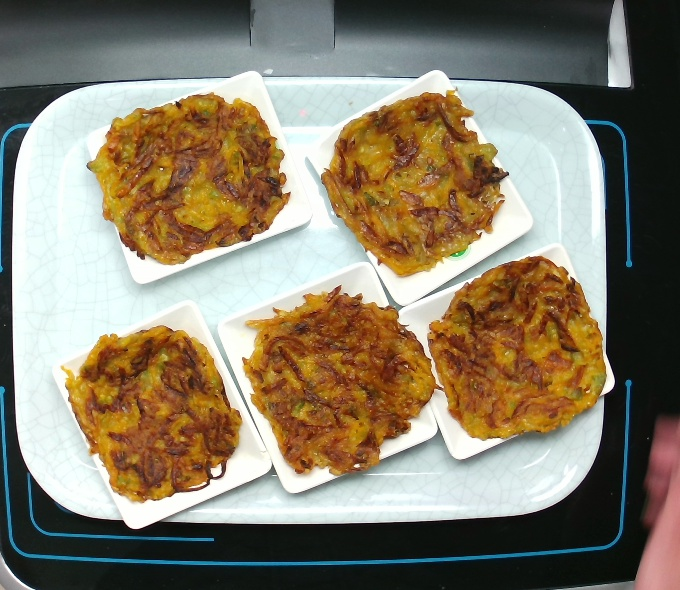wcq-NanGuaBing: (312, 86, 515, 278), (242, 286, 441, 480), (56, 319, 248, 505), (89, 99, 293, 266), (429, 256, 610, 439)
